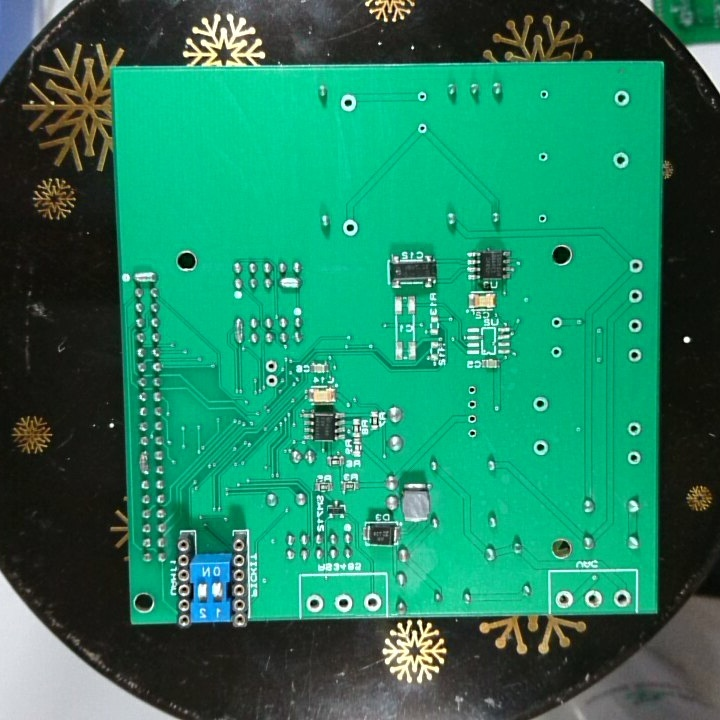F: (582, 586, 607, 611), (610, 587, 633, 612), (304, 590, 327, 615), (331, 590, 354, 614), (337, 92, 359, 115), (339, 217, 362, 239), (554, 588, 575, 612), (362, 590, 383, 613), (529, 438, 553, 458), (611, 86, 633, 107), (611, 149, 632, 171), (626, 256, 646, 277), (530, 394, 551, 414), (625, 286, 645, 306), (625, 346, 645, 366), (625, 420, 645, 439), (547, 343, 566, 362), (547, 314, 566, 332), (626, 317, 645, 335), (414, 119, 432, 137), (625, 449, 643, 467), (262, 373, 281, 390), (262, 358, 281, 375), (463, 409, 481, 426), (414, 89, 431, 106), (535, 149, 552, 166), (537, 86, 553, 103), (463, 425, 480, 441), (464, 397, 482, 412), (464, 383, 480, 397), (535, 211, 549, 226)
P: (232, 317, 247, 346), (277, 275, 302, 292), (131, 269, 159, 284), (137, 449, 151, 477)
